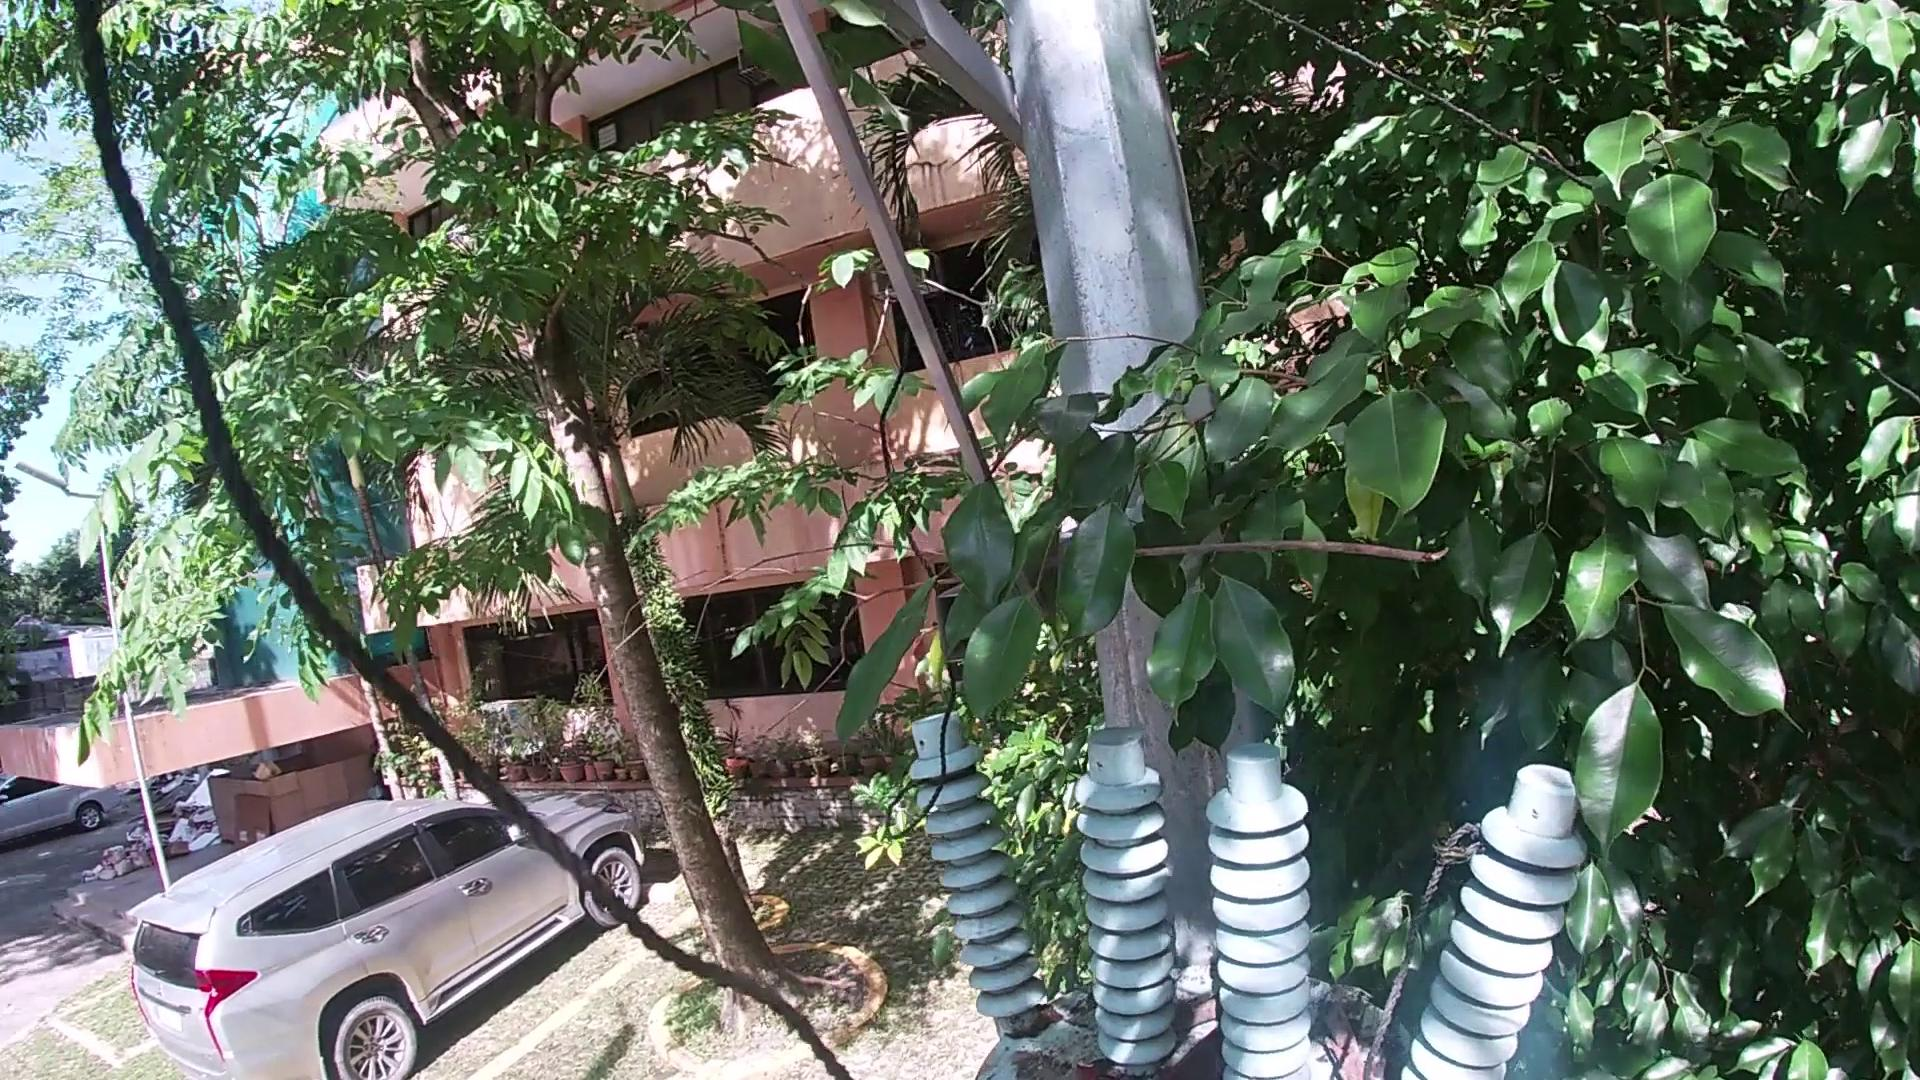mahogany fruit: (1159, 1025, 1226, 1080)
tree branch: (564, 539, 1489, 794), (1307, 992, 1393, 1080), (1178, 997, 1220, 1036)
